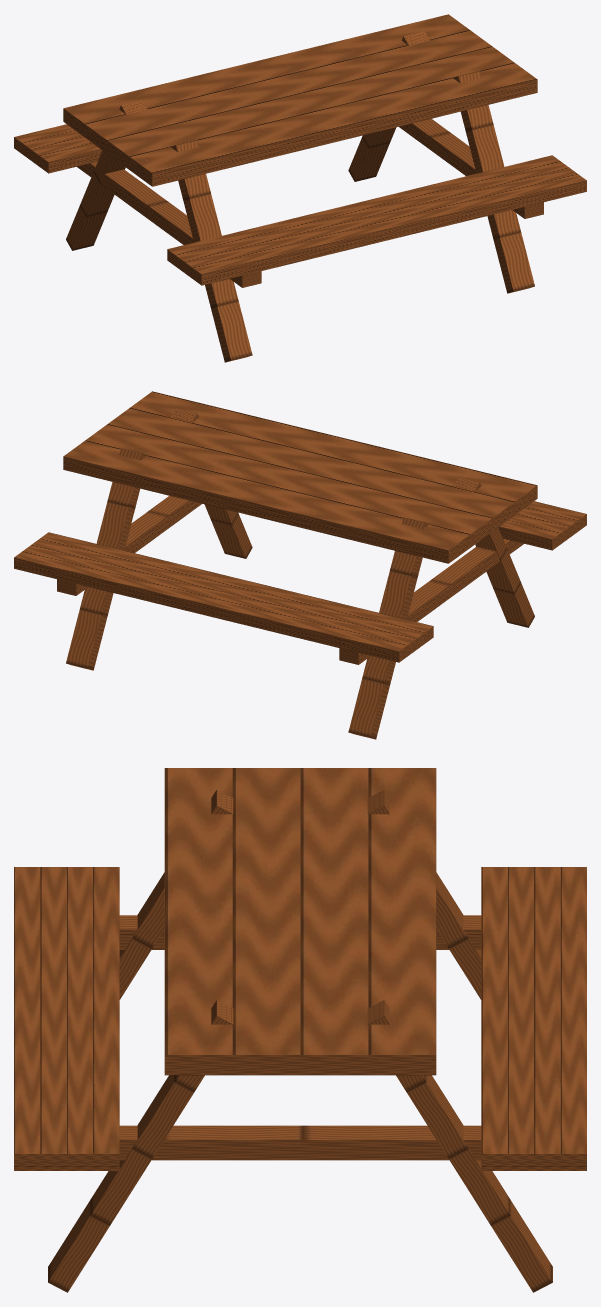
The model's file is caravan-park-and-campsite-picnic-bench-99052c3c__35361.glb.
3 views of the same model, one above another, from view 1: azimuth 30°, elevation 25°; view 2: azimuth 150°, elevation 25°; view 3: azimuth 270°, elevation 25° (orthographic). The views are drawn at different scales.
Parts seen in each view (by area): view 1: picnic-bench-timber; view 2: picnic-bench-timber; view 3: picnic-bench-timber.
Part boxes in pixels (x1,y1,x2,y2): picnic-bench-timber: (14, 14, 586, 362); picnic-bench-timber: (14, 391, 586, 739); picnic-bench-timber: (14, 768, 586, 1292).
Bounding box in the file's own units: 1.8 × 0.8109 × 1.52.
1 material, 1 textured.
